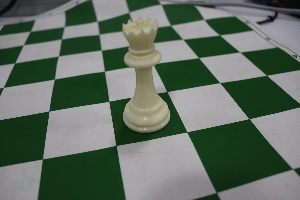white_queen: (115, 7, 174, 138)
